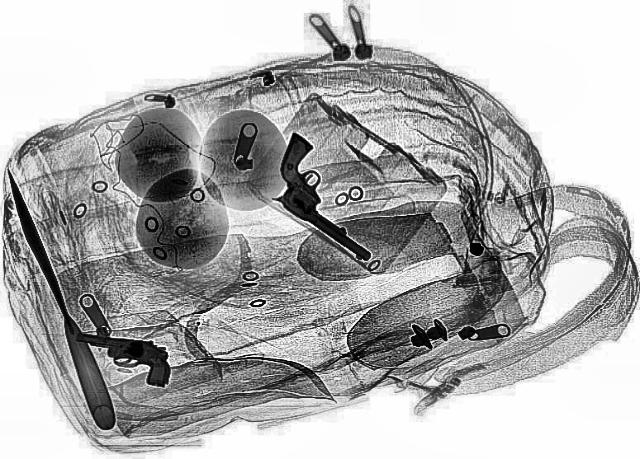Gun: (230, 131, 430, 261), (64, 332, 178, 386)
Knife: (0, 167, 118, 430)
